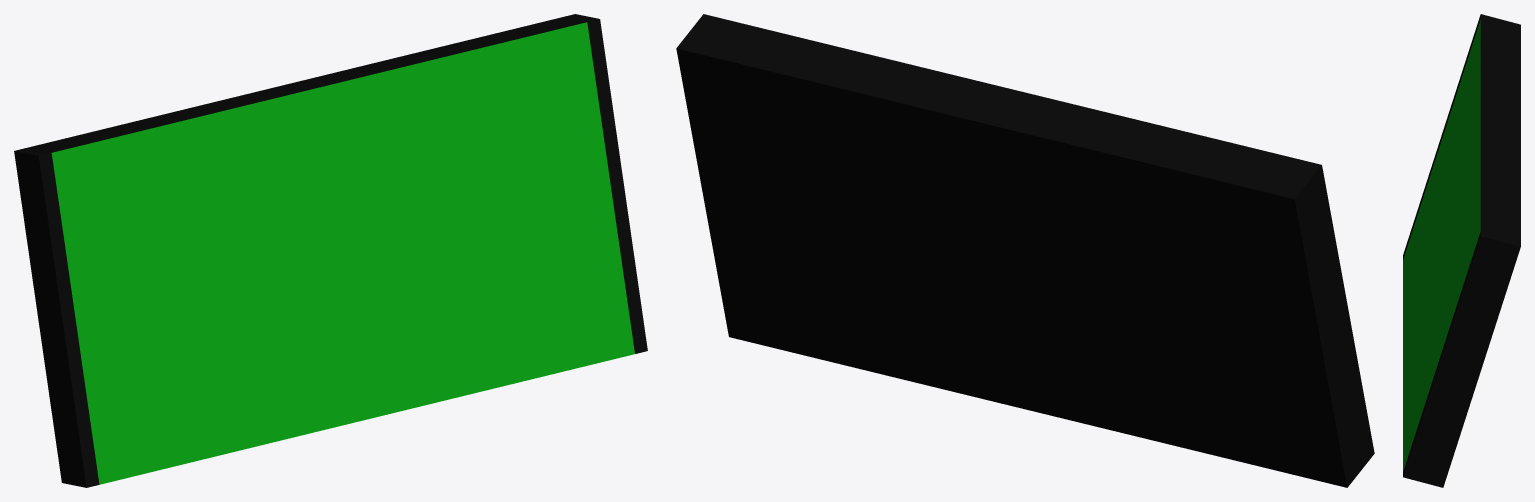
File: m_displayScreen.FBX
3 views of the same model, side by side, from view 1: azimuth 30°, elevation 25°; view 2: azimuth 150°, elevation 25°; view 3: azimuth 270°, elevation 25° (orthographic). The views are drawn at different scales.
Visible parts, largest first — view 1: Box005; view 2: Box005; view 3: Box005.
Boxes of the visible parts, x1,y1,x2,y2 form: Box005: (14,14,647,487); Box005: (676,14,1374,487); Box005: (1403,14,1520,487).
Size of the model in its own units: 20.53 by 10.84 by 4.6.
